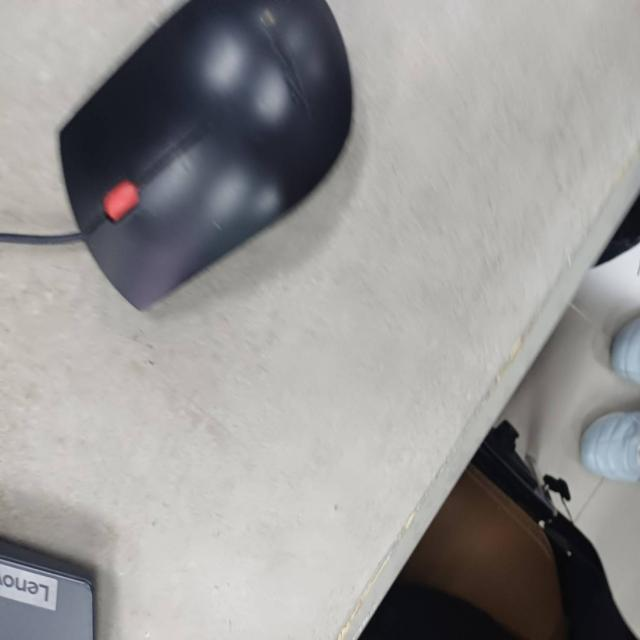mouse: (61, 0, 358, 313)
